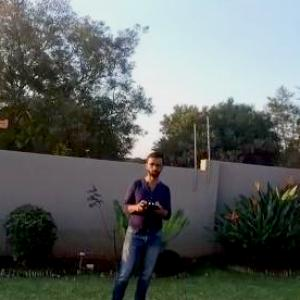follow: (98, 147, 176, 299)
